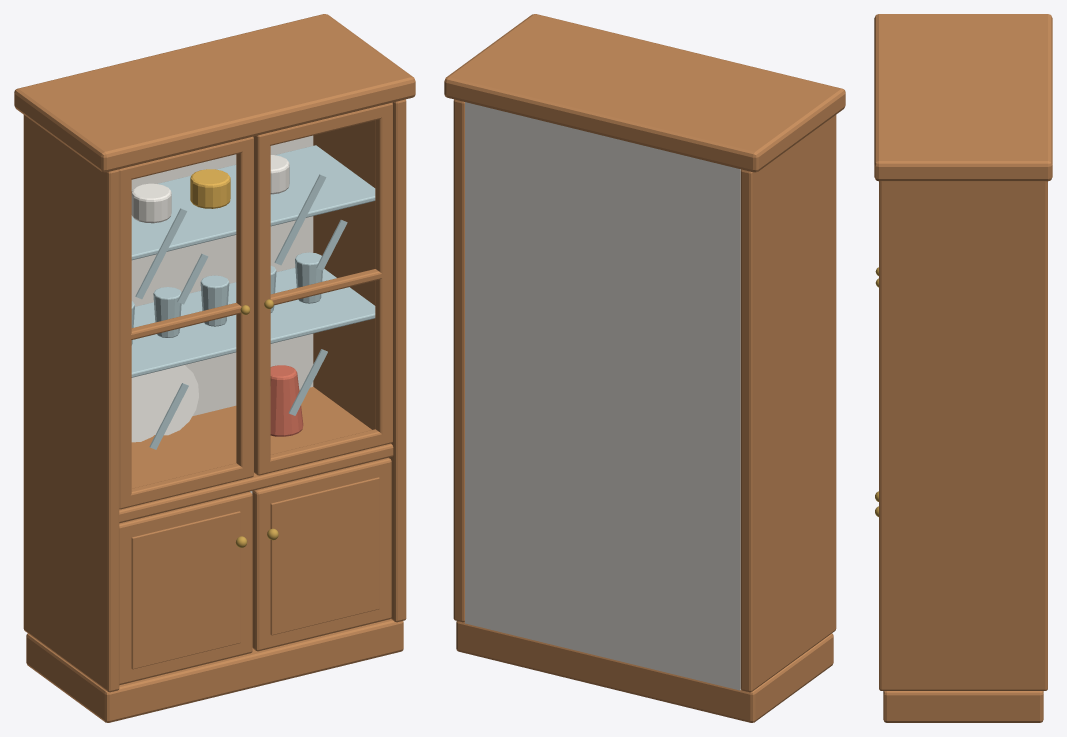
File: hh_cat_glass_cabinet.glb
The picture shows the model from 3 angles, left to right: view 1: azimuth 30°, elevation 25°; view 2: azimuth 150°, elevation 25°; view 3: azimuth 270°, elevation 25°; orthographic projection.
Parts seen in each view (by area): view 1: side, cornice, side.001, door_panel, door_panel.001, plinth, divider, back_panel, glass_shelf.001, glass_shelf, door.001, door (+21 smaller); view 2: back_panel, side, cornice, plinth, side.001; view 3: side.001, cornice, plinth.
Part boxes in pixels (bbox=[...]): side: bbox=[23, 115, 119, 692]; cornice: bbox=[14, 14, 415, 172]; side.001: bbox=[313, 99, 406, 622]; door_panel: bbox=[131, 511, 240, 669]; door_panel.001: bbox=[270, 477, 379, 635]; plinth: bbox=[26, 619, 403, 722]; divider: bbox=[119, 387, 393, 523]; back_panel: bbox=[131, 135, 313, 493]; glass_shelf.001: bbox=[131, 145, 375, 260]; glass_shelf: bbox=[131, 268, 375, 377]; door.001: bbox=[252, 457, 391, 651]; door: bbox=[119, 491, 252, 685]; back_panel: bbox=[465, 102, 740, 690]; side: bbox=[740, 115, 836, 692]; cornice: bbox=[444, 14, 845, 172]; plinth: bbox=[456, 621, 833, 722]; side.001: bbox=[453, 99, 464, 622]; side.001: bbox=[879, 181, 1047, 690]; cornice: bbox=[874, 14, 1052, 181]; plinth: bbox=[883, 691, 1043, 722].
Bounding box in the file's own units: 0.8 × 1.4 × 0.4.
